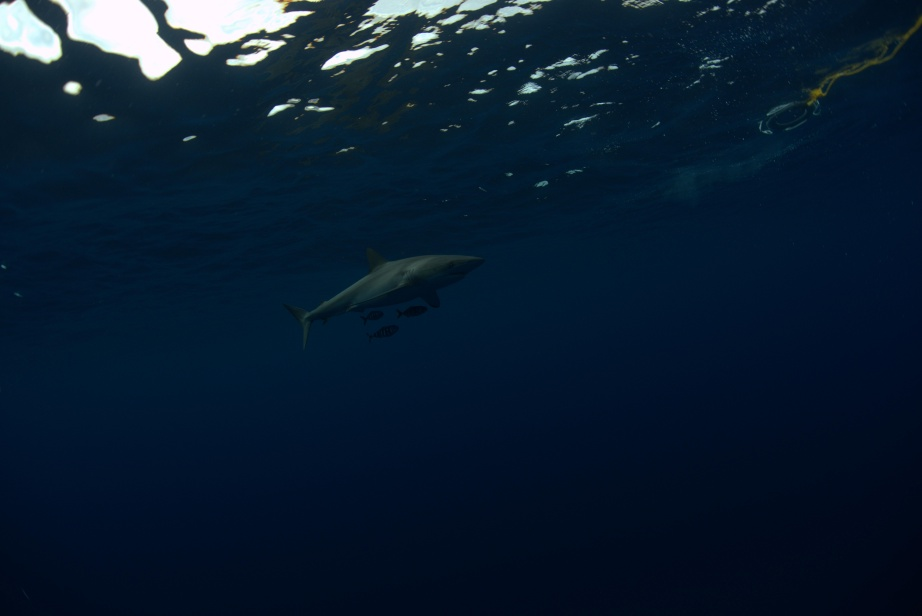Sedoso: (267, 212, 504, 361)
